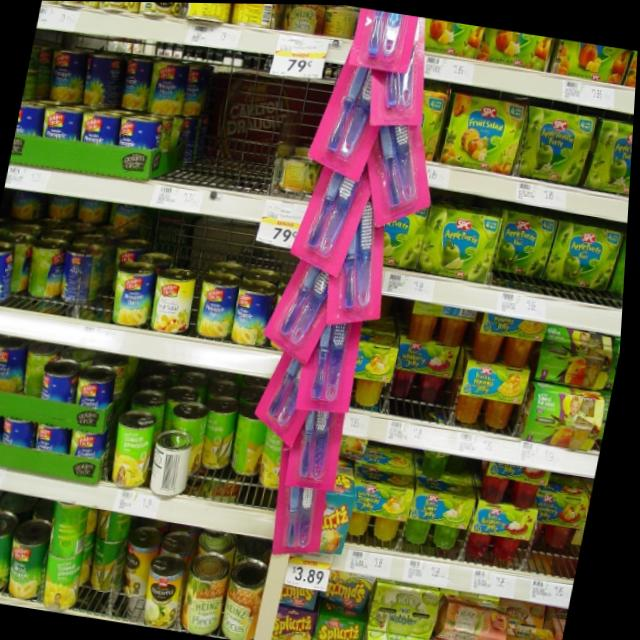q121: (422, 196, 513, 285), (544, 207, 630, 298), (516, 102, 601, 191), (590, 109, 635, 199)
